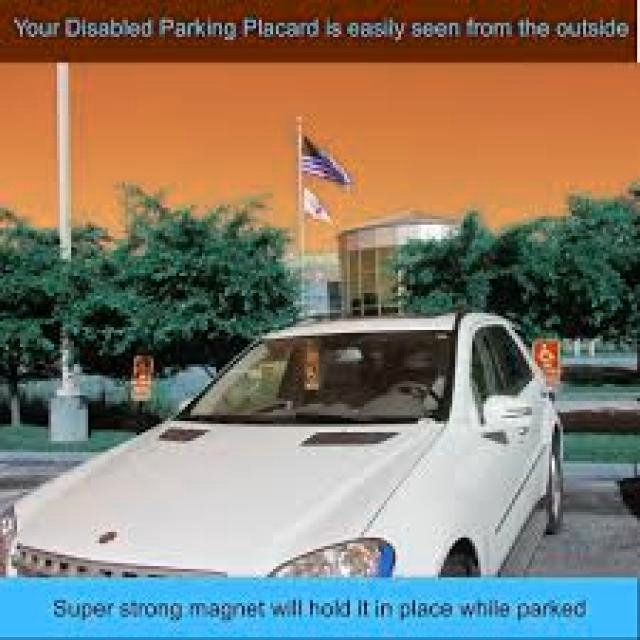ISA: (537, 343, 556, 365), (133, 361, 150, 381), (306, 366, 316, 382)
